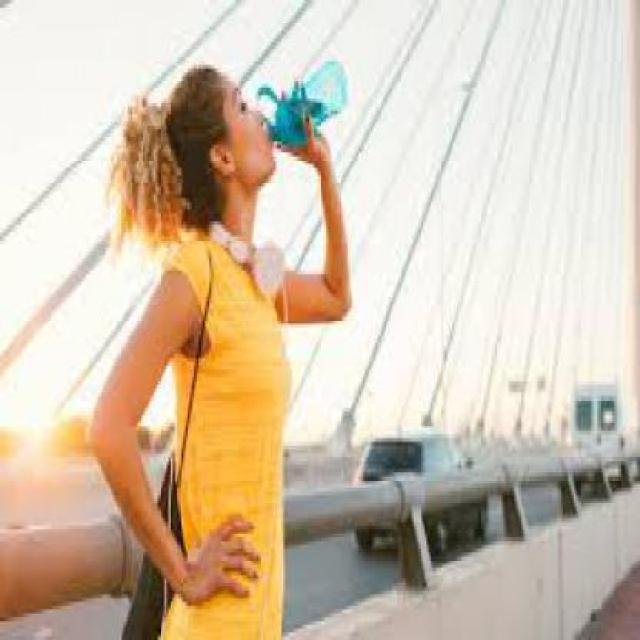Drinking: (262, 65, 342, 148)
